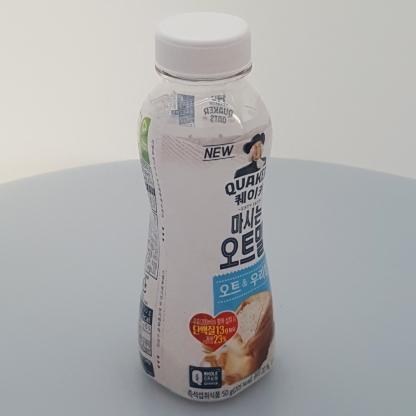---------50G: (137, 11, 275, 401)
